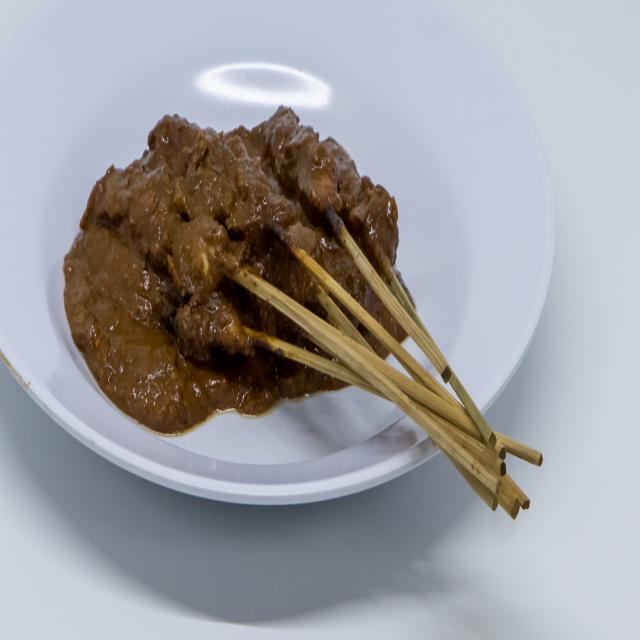Sate-Ayam: (76, 82, 416, 408)
